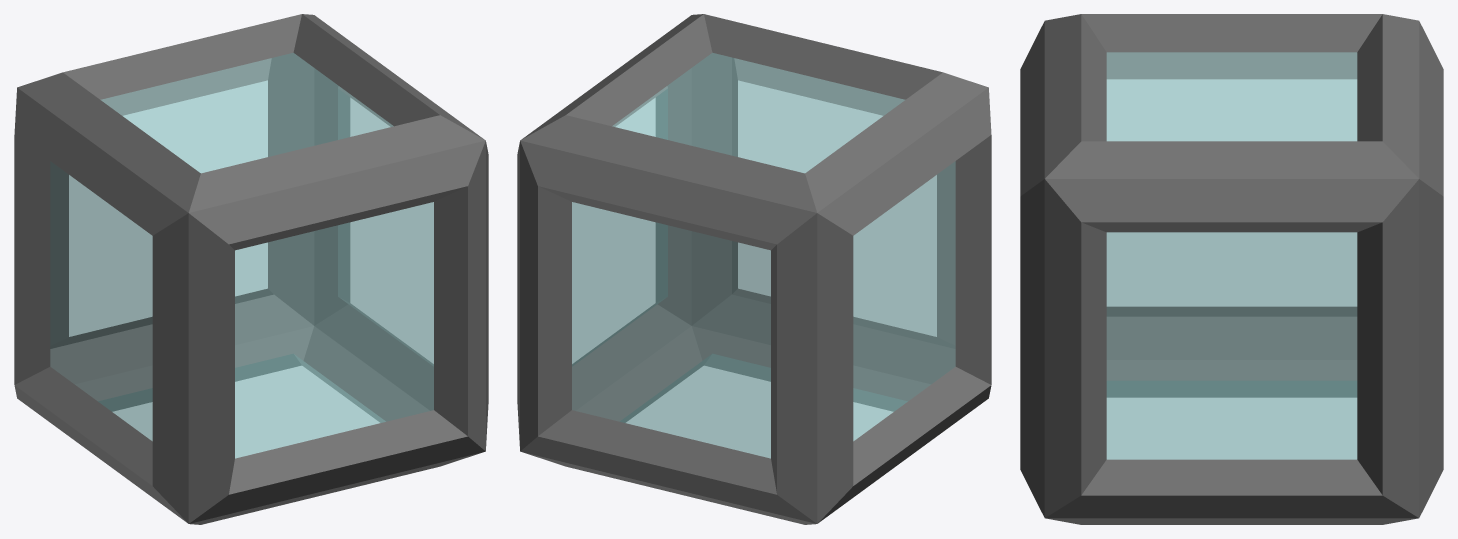
File: CubePowerUp.fbx
The picture shows the model from 3 angles, left to right: view 1: azimuth 30°, elevation 25°; view 2: azimuth 150°, elevation 25°; view 3: azimuth 270°, elevation 25°; orthographic projection. The views are drawn at different scales.
Visible parts, largest first — view 1: pCube1; view 2: pCube1; view 3: pCube1.
Part boxes in pixels (x1,y1,x2,y2): pCube1: (14,14,488,524); pCube1: (517,14,991,524); pCube1: (1020,14,1443,524).
Bounding box in the file's own units: 8.34 × 8.34 × 8.34.
